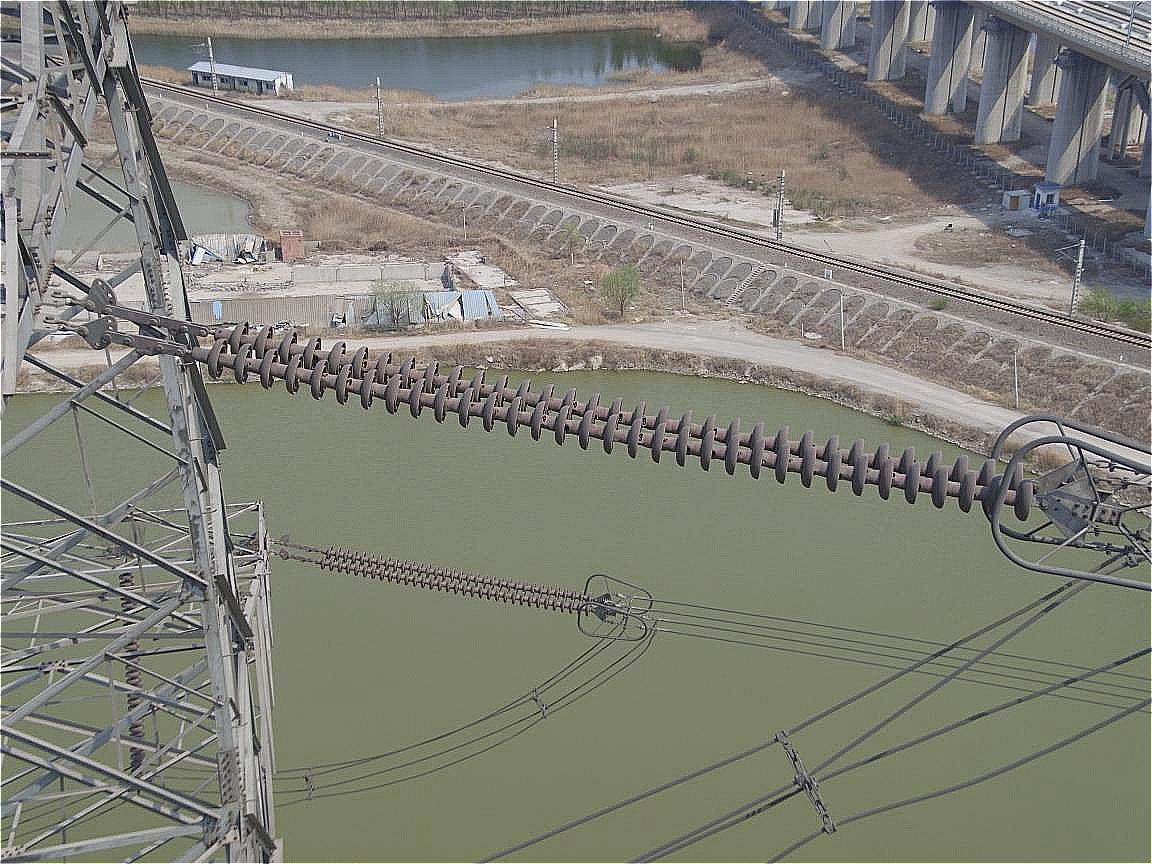insultor1: (206, 319, 1038, 521), (319, 544, 597, 622)
